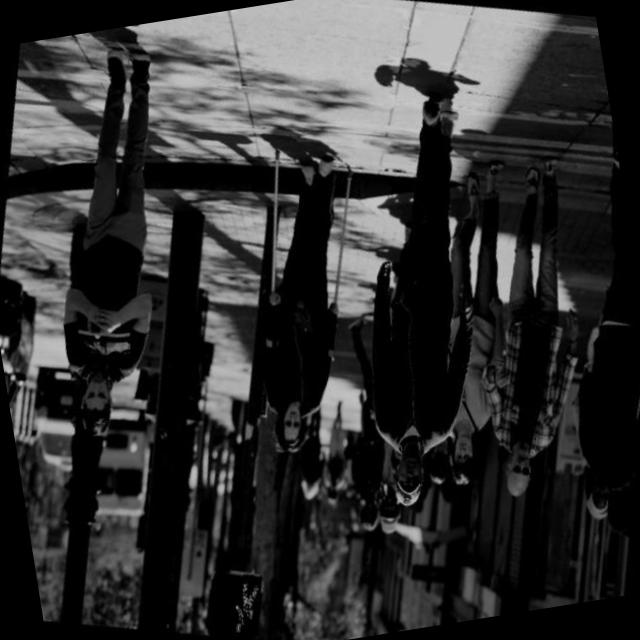person: (284, 68, 561, 536), (0, 17, 266, 467), (421, 132, 640, 538), (208, 125, 417, 480), (380, 144, 576, 498), (499, 98, 640, 557), (296, 394, 380, 536), (276, 402, 352, 520), (566, 456, 636, 540)
